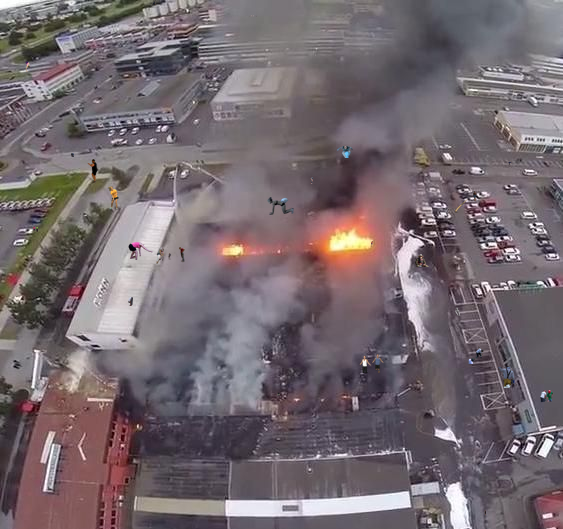Human: (491, 367, 517, 388), (359, 354, 385, 373), (156, 247, 185, 264), (267, 197, 294, 215), (455, 191, 477, 213), (127, 242, 153, 260), (468, 345, 484, 364), (107, 186, 119, 210), (540, 390, 558, 406), (87, 159, 98, 183), (337, 146, 354, 158), (415, 254, 429, 267), (25, 61, 31, 72), (455, 307, 461, 317), (128, 297, 133, 306), (33, 226, 38, 232), (310, 177, 313, 184), (249, 15, 257, 17), (153, 0, 156, 5), (277, 391, 280, 396), (71, 153, 74, 157), (371, 241, 373, 247), (484, 510, 486, 515), (199, 46, 201, 51), (510, 307, 512, 312), (508, 162, 511, 165)
